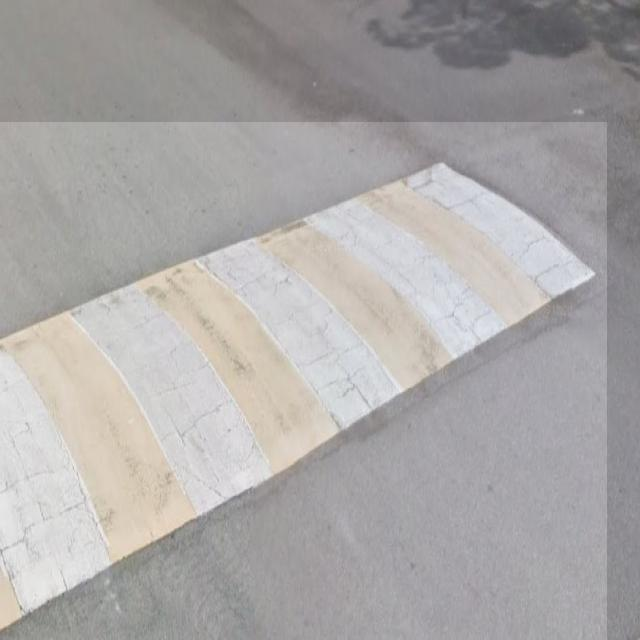speed-bump: (0, 122, 607, 640)
